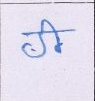i_matra: (43, 19, 64, 54)
